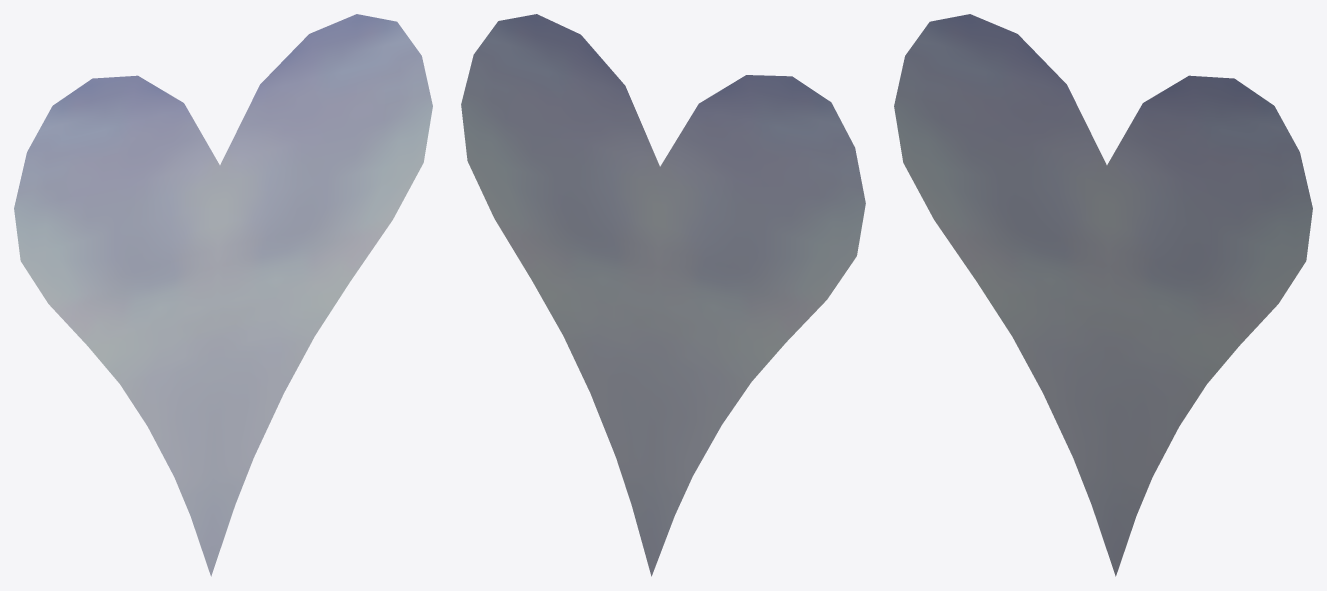
File: Heart.glb
3 renders of one model, left to right at view 1: azimuth 30°, elevation 25°; view 2: azimuth 150°, elevation 25°; view 3: azimuth 330°, elevation 25°, orthographic. The views are drawn at different scales.
Parts seen in each view (by area): view 1: cyrene_00_skill_heart_LOD0; view 2: cyrene_00_skill_heart_LOD0; view 3: cyrene_00_skill_heart_LOD0.
Boxes of the visible parts, <box> form: cyrene_00_skill_heart_LOD0: <box>14,14,432,576</box>; cyrene_00_skill_heart_LOD0: <box>461,14,865,576</box>; cyrene_00_skill_heart_LOD0: <box>894,14,1312,576</box>.
Size of the model in its own units: 0.0312 by 0.0385 by 0.00178.
1 material, 1 textured.
